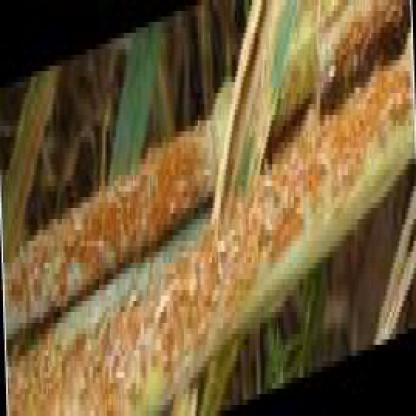wheat Stem Rust: (13, 340, 153, 415), (353, 74, 411, 160), (258, 166, 306, 258), (160, 253, 208, 344), (10, 236, 65, 312), (308, 106, 345, 216), (214, 228, 247, 311), (101, 282, 153, 328), (70, 203, 94, 288), (124, 173, 146, 259), (177, 146, 205, 212), (97, 186, 119, 264), (150, 155, 172, 227)
